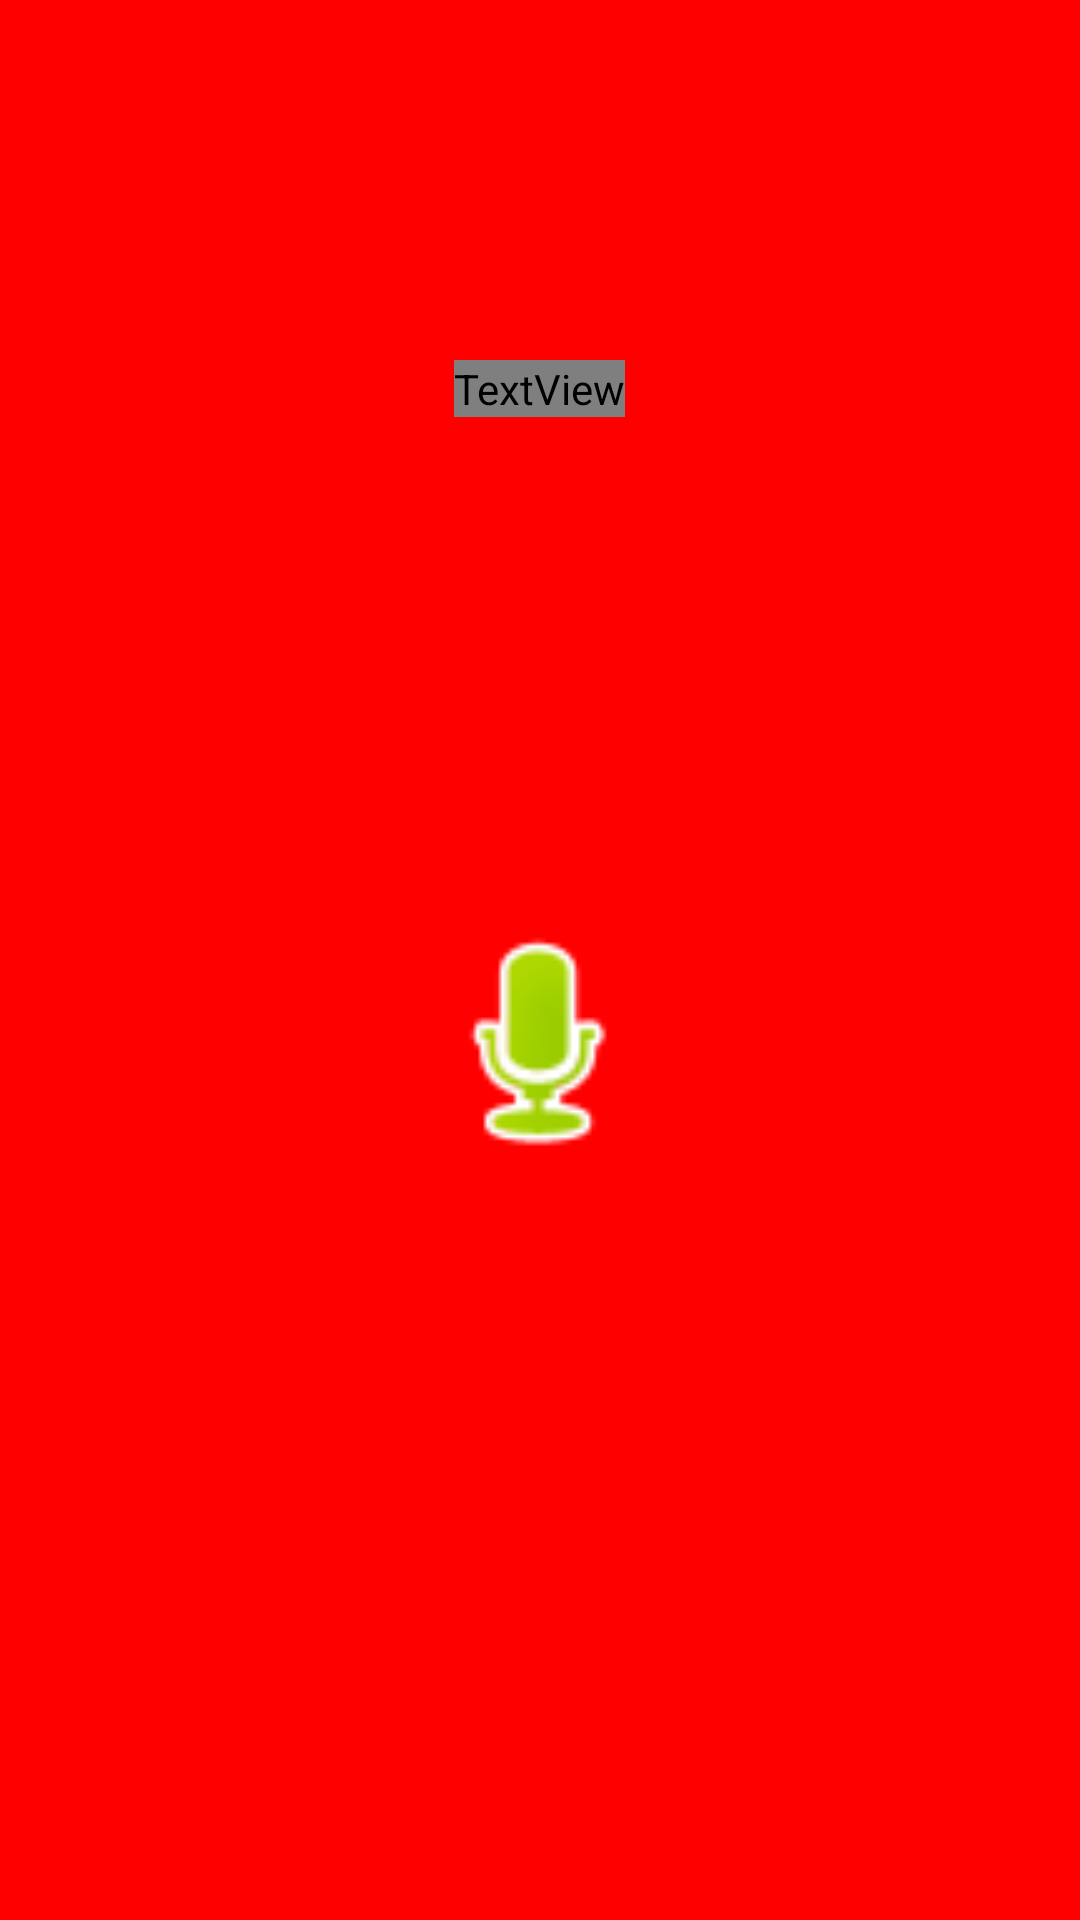

Named icons in this screenshot (1080px×1920px) and their bounding boxes, (x1=x1, y1=y1, x2=x2, y2=y2):
presence audio online: (x1=469, y1=939, x2=607, y2=1146)
